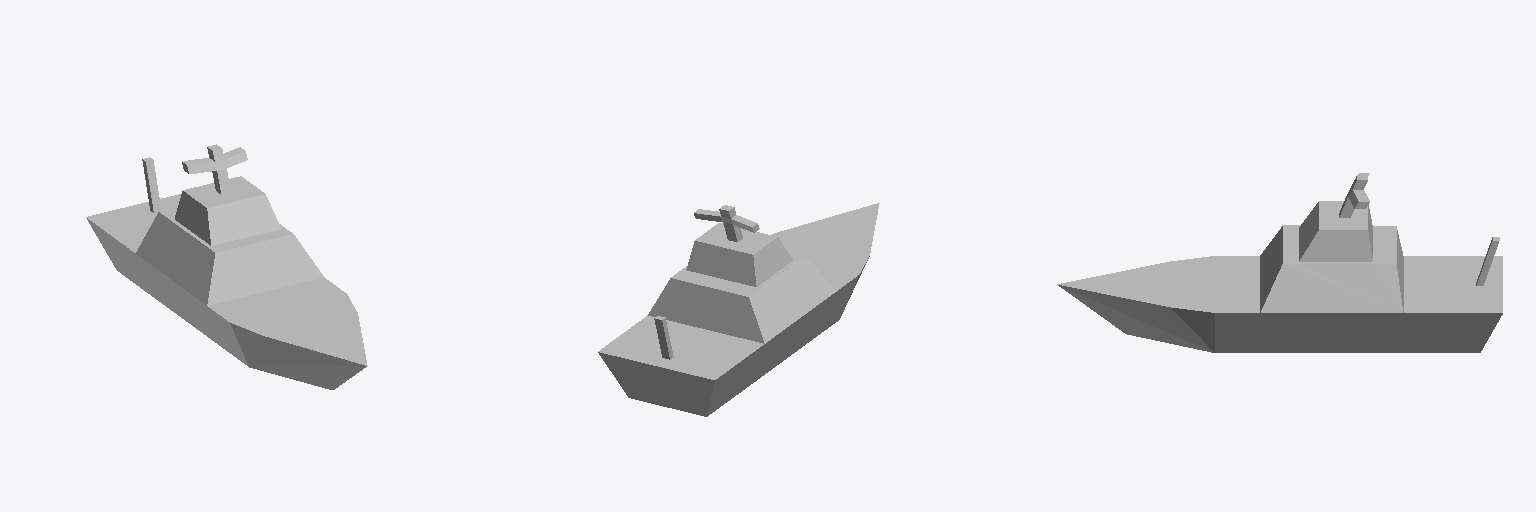
The model's file is ship1.obj.
3 views of the same model, side by side, from view 1: azimuth 30°, elevation 25°; view 2: azimuth 150°, elevation 25°; view 3: azimuth 270°, elevation 25° (orthographic).
Visible parts, largest first — view 1: Cube; view 2: Cube; view 3: Cube.
Part boxes in pixels (x1,y1,x2,y2): Cube: (86, 144, 367, 389); Cube: (598, 203, 879, 416); Cube: (1057, 173, 1502, 352).
Bounding box in the file's own units: 0.6 × 0.7646 × 1.98.